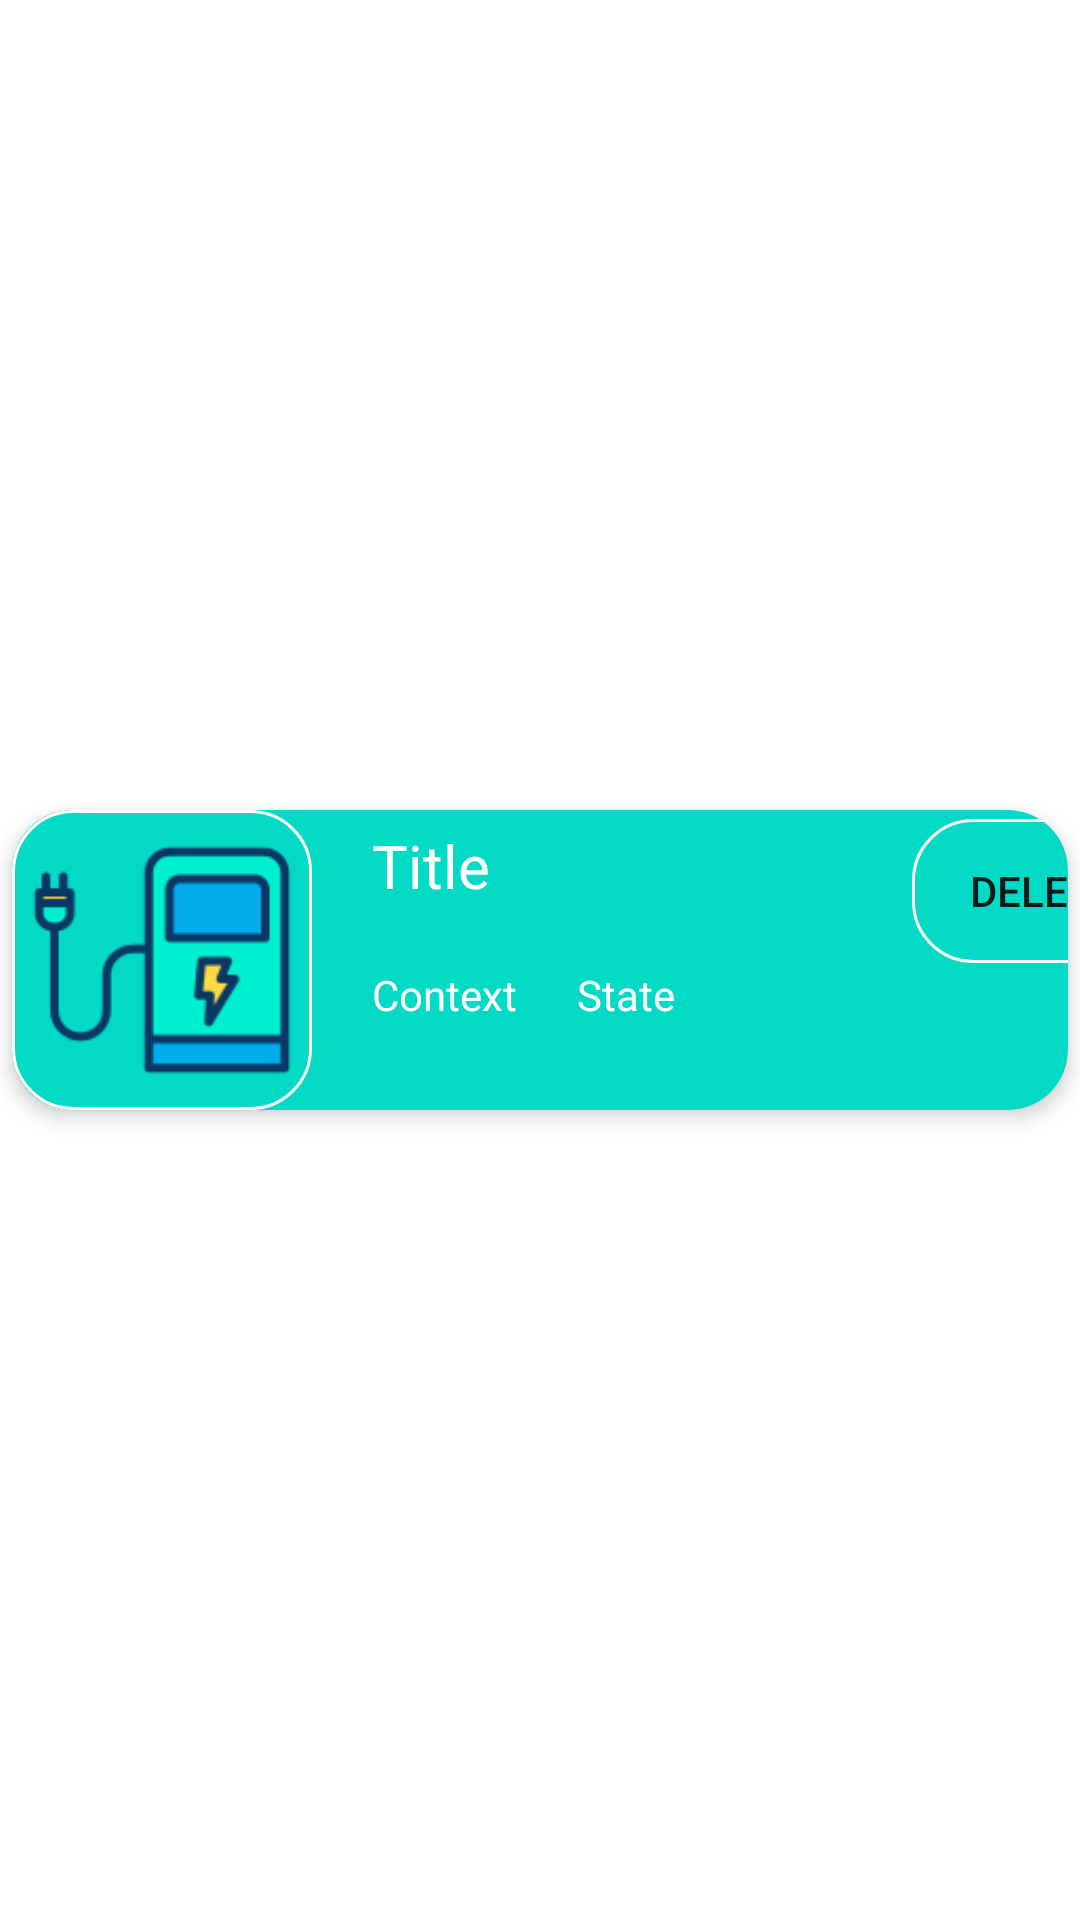

Where to tap for icons on this 1080w x 1920h app screen, as [x,y]:
charging station: [162,960]
